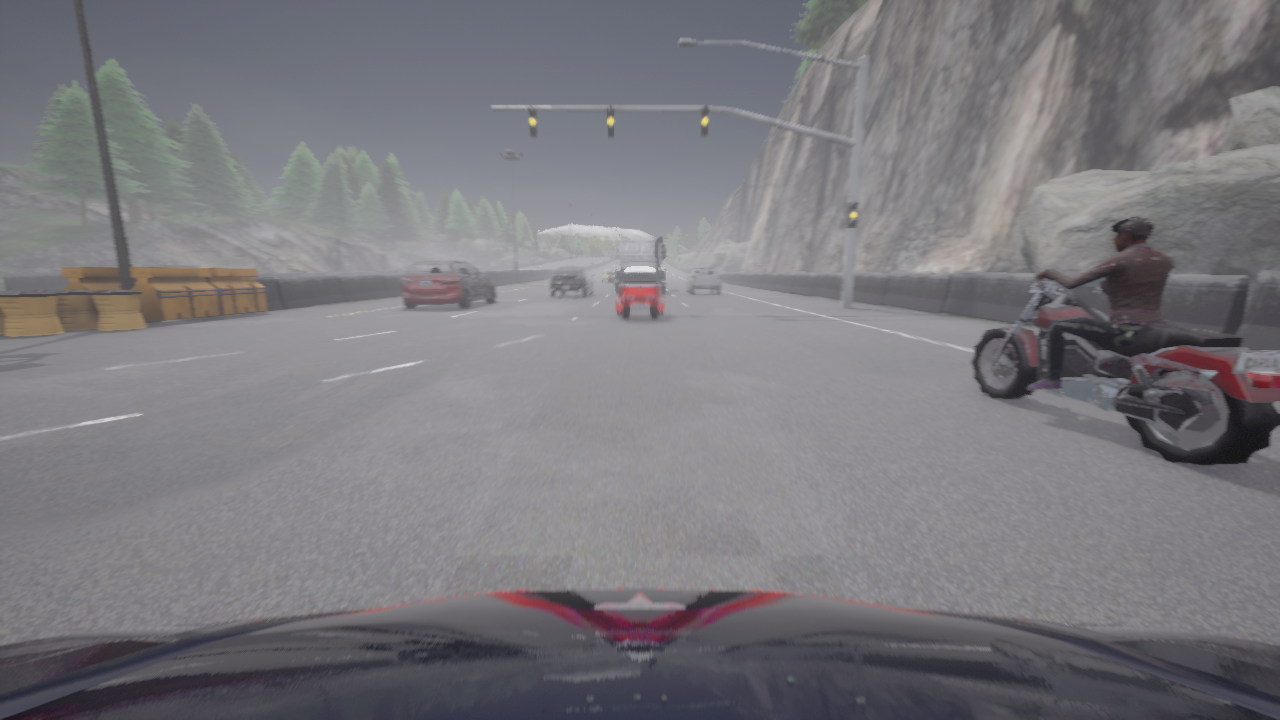cyclist: (0, 588, 1279, 719), (971, 263, 1279, 465), (401, 260, 495, 307), (616, 237, 665, 293), (614, 267, 665, 319), (549, 266, 595, 296), (686, 267, 721, 294), (601, 269, 614, 282)
